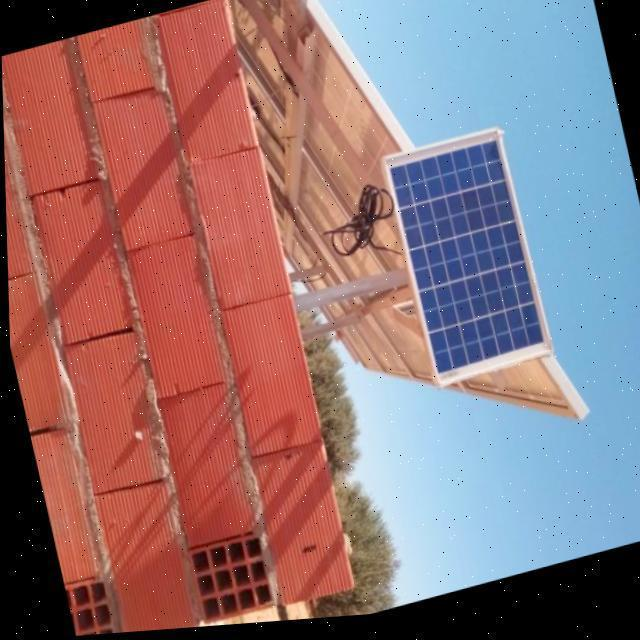Normal Solar Panel: (380, 132, 550, 398)
